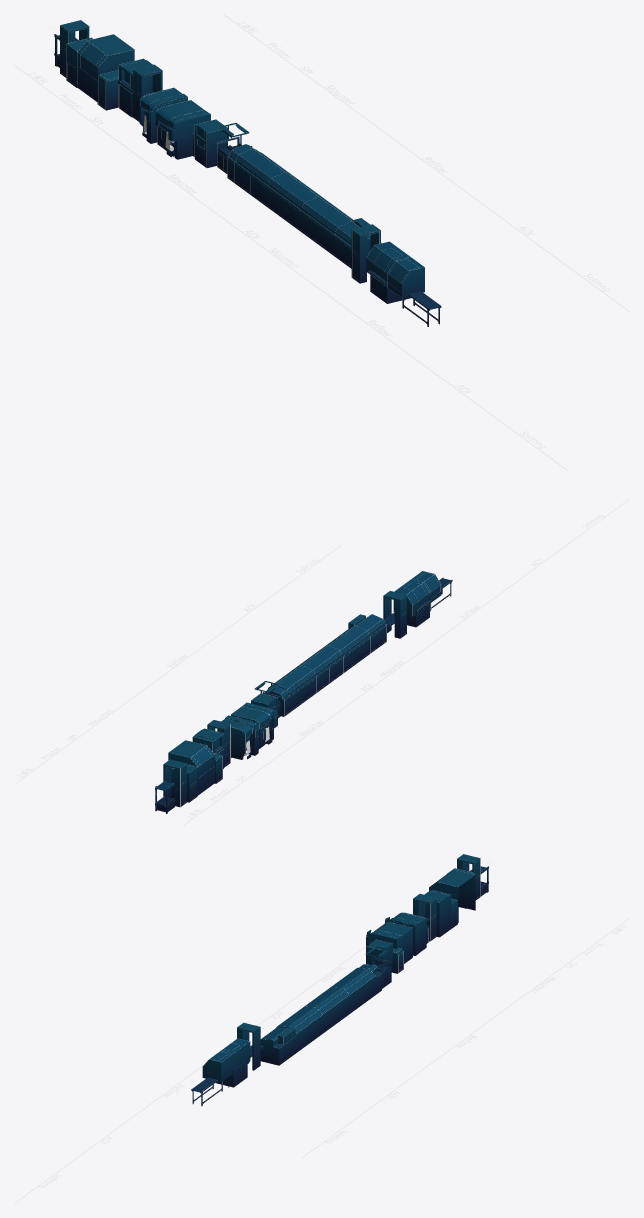
3 views of the same model, one above another, from view 1: azimuth 30°, elevation 25°; view 2: azimuth 150°, elevation 25°; view 3: azimuth 330°, elevation 25° (orthographic). The views are drawn at different scales.
Visible parts, largest first — view 1: BTU_PYRAMAXZ12_150N, Aurotek_-S168IN-LINE, MPM_MomentumHiE, NPM_NM-EJM3D, dmwz, dmwz2, NPM_NM-EJM5D, JUTZE, BUF, Kohyong_KY8030-2XDL, GTB-1000MS, GTL-1000M (+2 smaller); view 2: BTU_PYRAMAXZ12_150N, Aurotek_-S168IN-LINE, MPM_MomentumHiE, GTL-1000M, dmwz, NPM_NM-EJM5D, NPM_NM-EJM3D, BUF, dmwz2, Kohyong_KY8030-2XDL, GBS-1000M, GTB-1000MS; view 3: BTU_PYRAMAXZ12_150N, Aurotek_-S168IN-LINE, MPM_MomentumHiE, NPM_NM-EJM3D, dmwz2, Kohyong_KY8030-2XDL, NPM_NM-EJM5D, dmwz, GTB-1000MS, GTL-1000M, BUF, JUTZE.
Part boxes in pixels (x1,y1,x2,y2): BTU_PYRAMAXZ12_150N: [227, 144, 381, 268]; Aurotek_-S168IN-LINE: [366, 241, 441, 326]; MPM_MomentumHiE: [77, 34, 134, 102]; NPM_NM-EJM3D: [155, 100, 210, 159]; dmwz: [14, 65, 567, 470]; dmwz2: [223, 14, 629, 311]; NPM_NM-EJM5D: [139, 87, 187, 143]; JUTZE: [195, 119, 227, 167]; BUF: [351, 224, 380, 283]; Kohyong_KY8030-2XDL: [118, 58, 152, 117]; GTB-1000MS: [133, 64, 162, 121]; GTL-1000M: [54, 20, 89, 77]; BTU_PYRAMAXZ12_150N: [264, 614, 386, 716]; Aurotek_-S168IN-LINE: [393, 571, 452, 627]; MPM_MomentumHiE: [168, 740, 214, 795]; GTL-1000M: [155, 759, 186, 813]; dmwz: [183, 499, 629, 825]; NPM_NM-EJM5D: [217, 715, 258, 759]; NPM_NM-EJM3D: [231, 702, 277, 749]; BUF: [383, 591, 406, 638]; dmwz2: [14, 545, 341, 784]; Kohyong_KY8030-2XDL: [192, 728, 224, 768]; GBS-1000M: [171, 764, 197, 802]; GTB-1000MS: [207, 720, 231, 767]; BTU_PYRAMAXZ12_150N: [260, 964, 381, 1065]; Aurotek_-S168IN-LINE: [191, 1038, 250, 1106]; MPM_MomentumHiE: [429, 869, 475, 922]; NPM_NM-EJM3D: [366, 922, 412, 963]; dmwz2: [302, 918, 629, 1157]; Kohyong_KY8030-2XDL: [424, 890, 451, 937]; NPM_NM-EJM5D: [385, 912, 426, 955]; dmwz: [14, 912, 412, 1203]; GTB-1000MS: [413, 894, 436, 943]; GTL-1000M: [457, 854, 488, 900]; BUF: [237, 1022, 264, 1070]; JUTZE: [366, 939, 392, 972].
Size of the model in its own units: 32.75 by 7.11 by 143.
34 materials, 33 textured.
